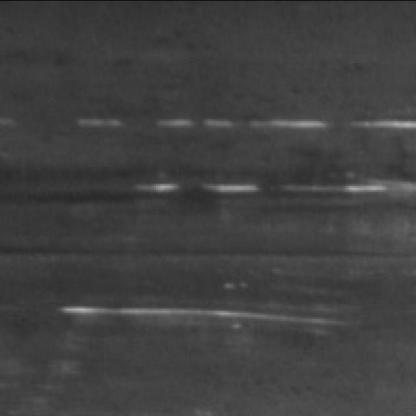inclusion: (0, 162, 135, 212)
scratches: (54, 304, 356, 335), (75, 116, 414, 140), (118, 175, 412, 199)
